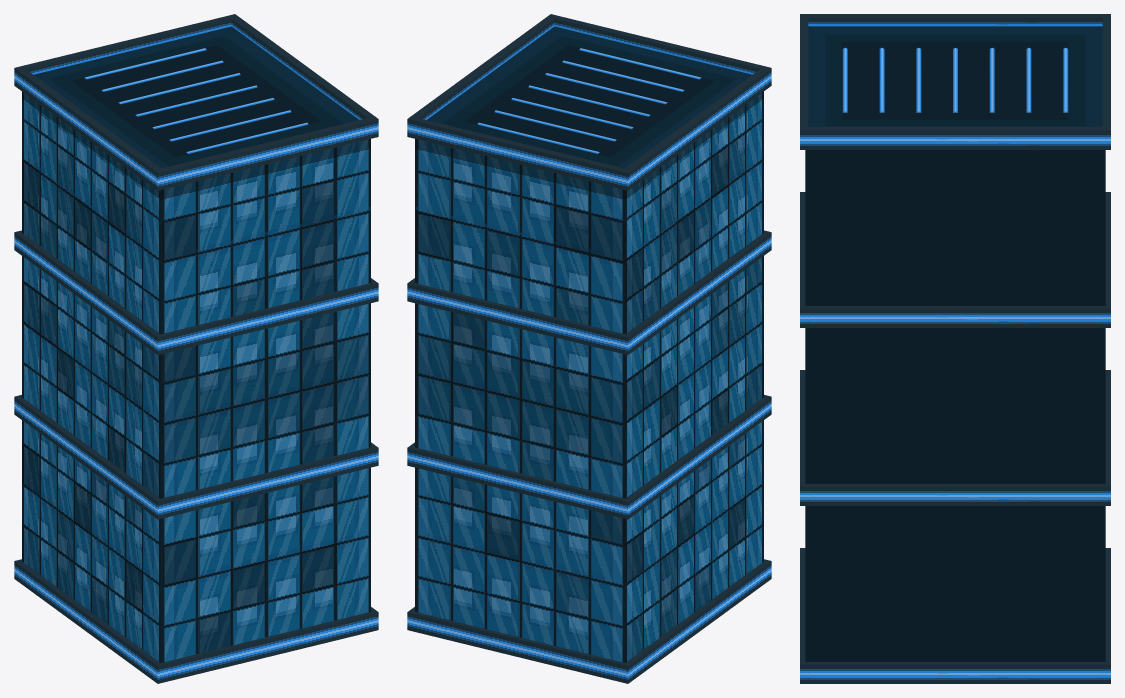
File: towerone.glb
3 renders of one model, left to right at view 1: azimuth 30°, elevation 25°; view 2: azimuth 150°, elevation 25°; view 3: azimuth 270°, elevation 25°, orthographic. The views are drawn at different scales.
Visible parts, largest first — view 1: Cube, Cube.001, Cylinder; view 2: Cube, Cube.001, Cylinder; view 3: Cube, Cube.001, Cylinder.
Boxes of the visible parts, <box> form: Cube: <box>22,26,370,662</box>; Cube.001: <box>14,14,378,683</box>; Cylinder: <box>84,48,308,153</box>; Cube: <box>415,26,763,662</box>; Cube.001: <box>407,14,771,683</box>; Cylinder: <box>477,48,701,153</box>; Cube: <box>805,26,1105,661</box>; Cube.001: <box>800,14,1110,683</box>; Cylinder: <box>842,47,1068,112</box>.
Size of the model in its own units: 3.68 by 8.13 by 4.14.
3 materials, 3 textured.
